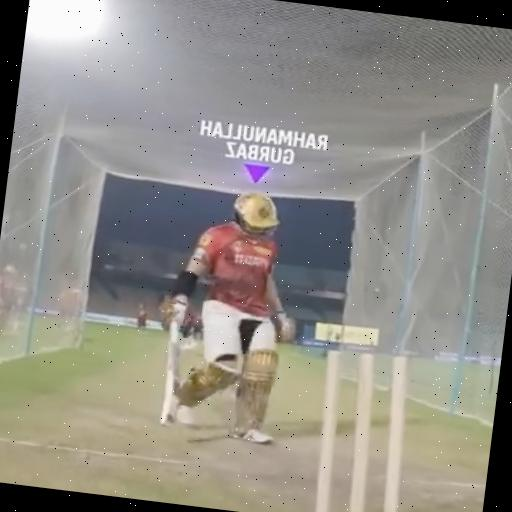Cricket bat: (162, 320, 182, 424)
